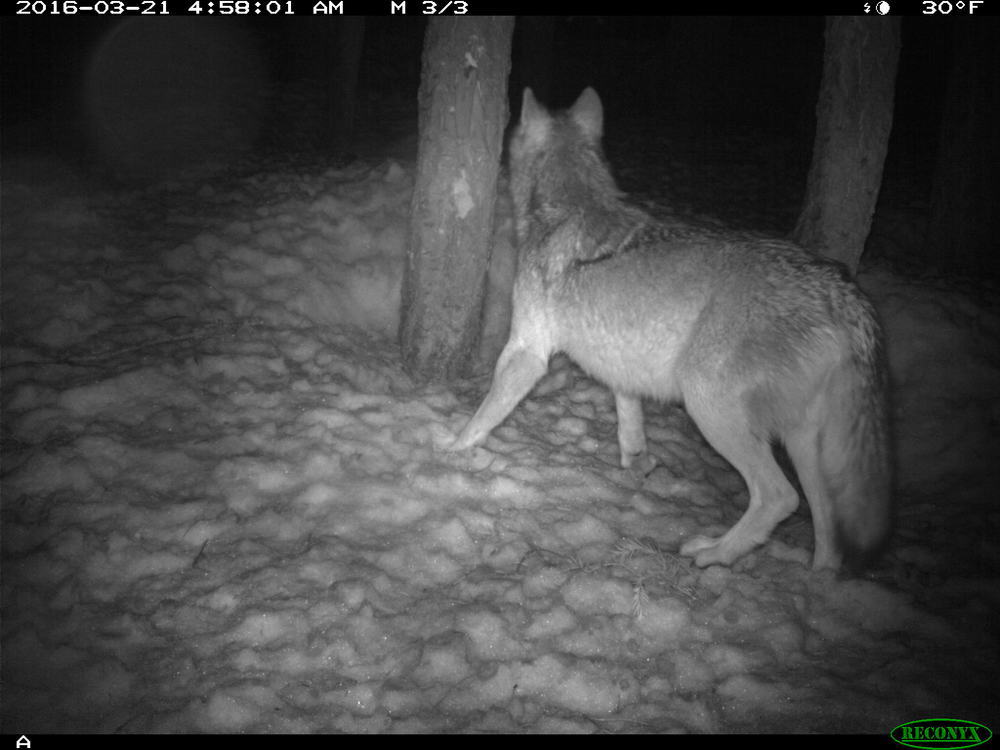coyote: (493, 62, 903, 571)
